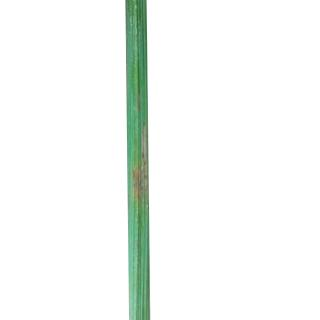Blast: (132, 120, 147, 222), (137, 88, 141, 112)
